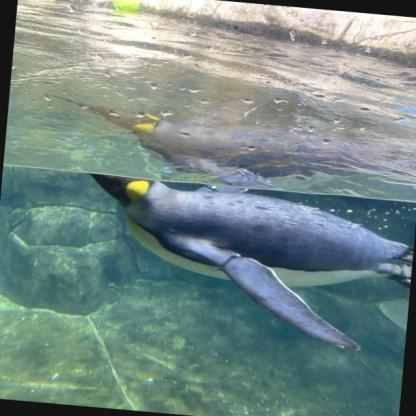penguin: (72, 157, 416, 358)
